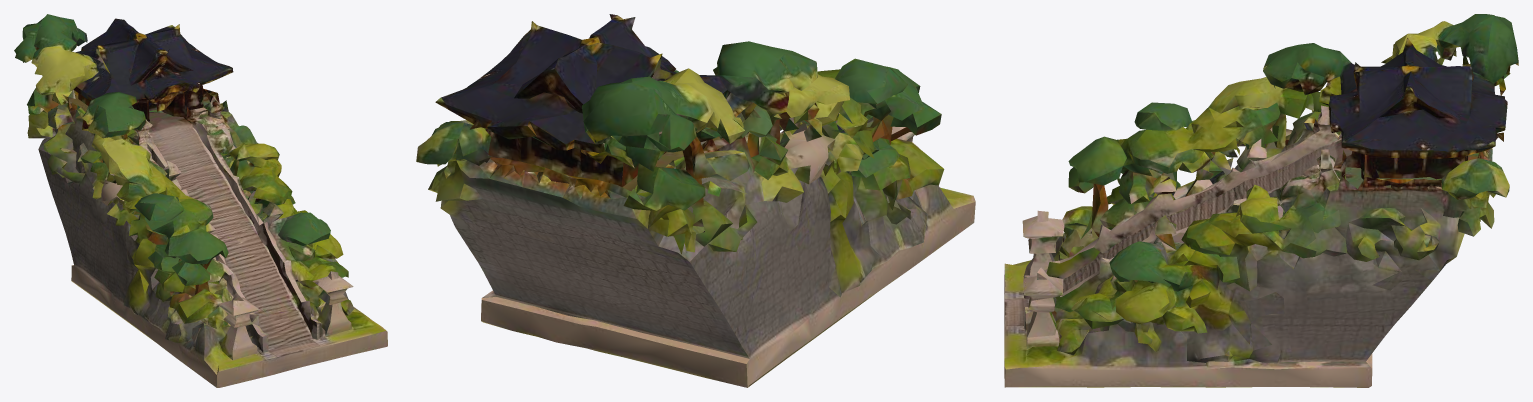
The model's file is kotohiragu.glb.
The picture shows the model from 3 angles, left to right: view 1: azimuth 30°, elevation 25°; view 2: azimuth 150°, elevation 25°; view 3: azimuth 270°, elevation 25°; orthographic projection. The views are drawn at different scales.
Visible parts, largest first — view 1: logan-textured.obj; view 2: logan-textured.obj; view 3: logan-textured.obj.
Part boxes in pixels (x1,y1,x2,y2): logan-textured.obj: [14, 14, 387, 387]; logan-textured.obj: [416, 14, 975, 387]; logan-textured.obj: [1004, 14, 1518, 387].
Size of the model in its own units: 0.5616 by 0.609 by 1.
1 material, 1 textured.
